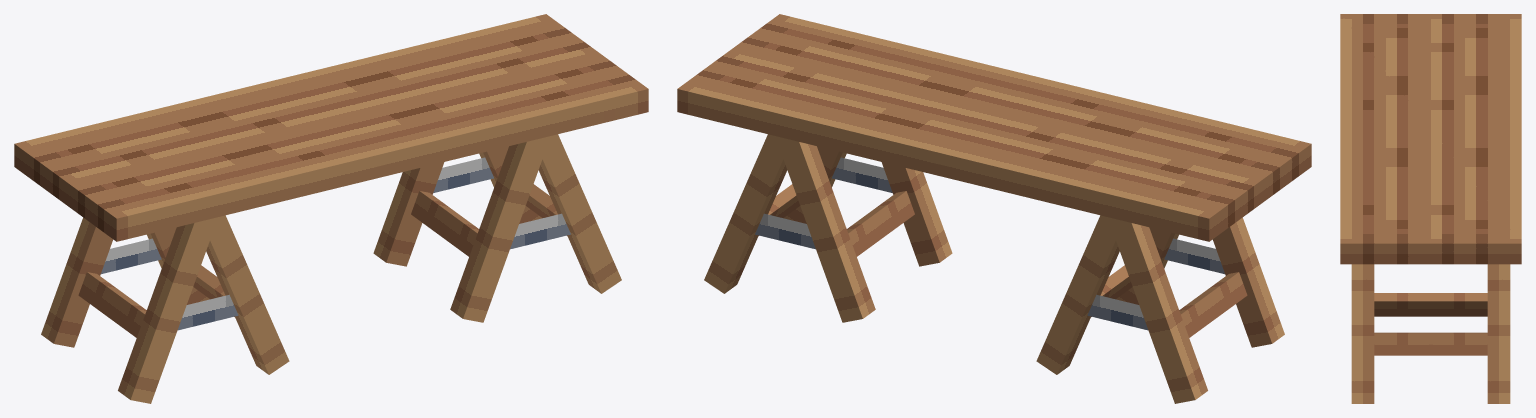
Rendered from light-table.gltf.
3 renders of one model, left to right at view 1: azimuth 30°, elevation 25°; view 2: azimuth 150°, elevation 25°; view 3: azimuth 270°, elevation 25°, orthographic. The views are drawn at different scales.
Parts seen in each view (by area): view 1: cube; view 2: cube; view 3: cube.
Part boxes in pixels (bbox=[...]): cube: bbox=[14, 14, 648, 403]; cube: bbox=[677, 14, 1311, 403]; cube: bbox=[1340, 14, 1521, 403].
Bounding box in the file's own units: 3 × 1.08 × 1.
Materials: 1 (1 with a texture image).
